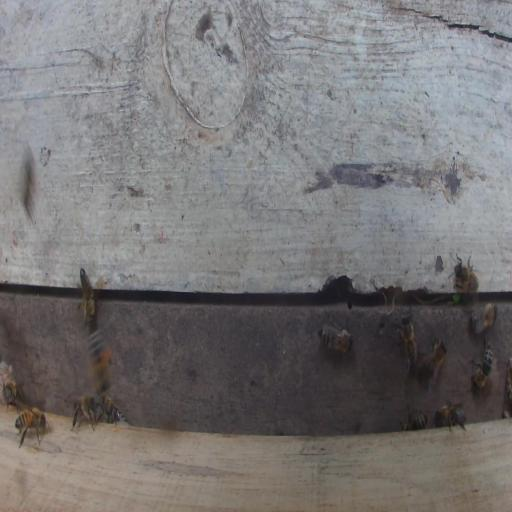bee: (86, 324, 113, 392), (418, 338, 447, 394), (14, 406, 49, 448), (319, 317, 354, 355), (469, 335, 493, 390), (397, 312, 418, 374), (71, 393, 102, 431), (77, 265, 95, 326), (453, 252, 479, 294), (98, 393, 128, 425), (468, 303, 498, 334), (435, 403, 467, 431), (401, 405, 428, 431), (3, 380, 22, 411)
